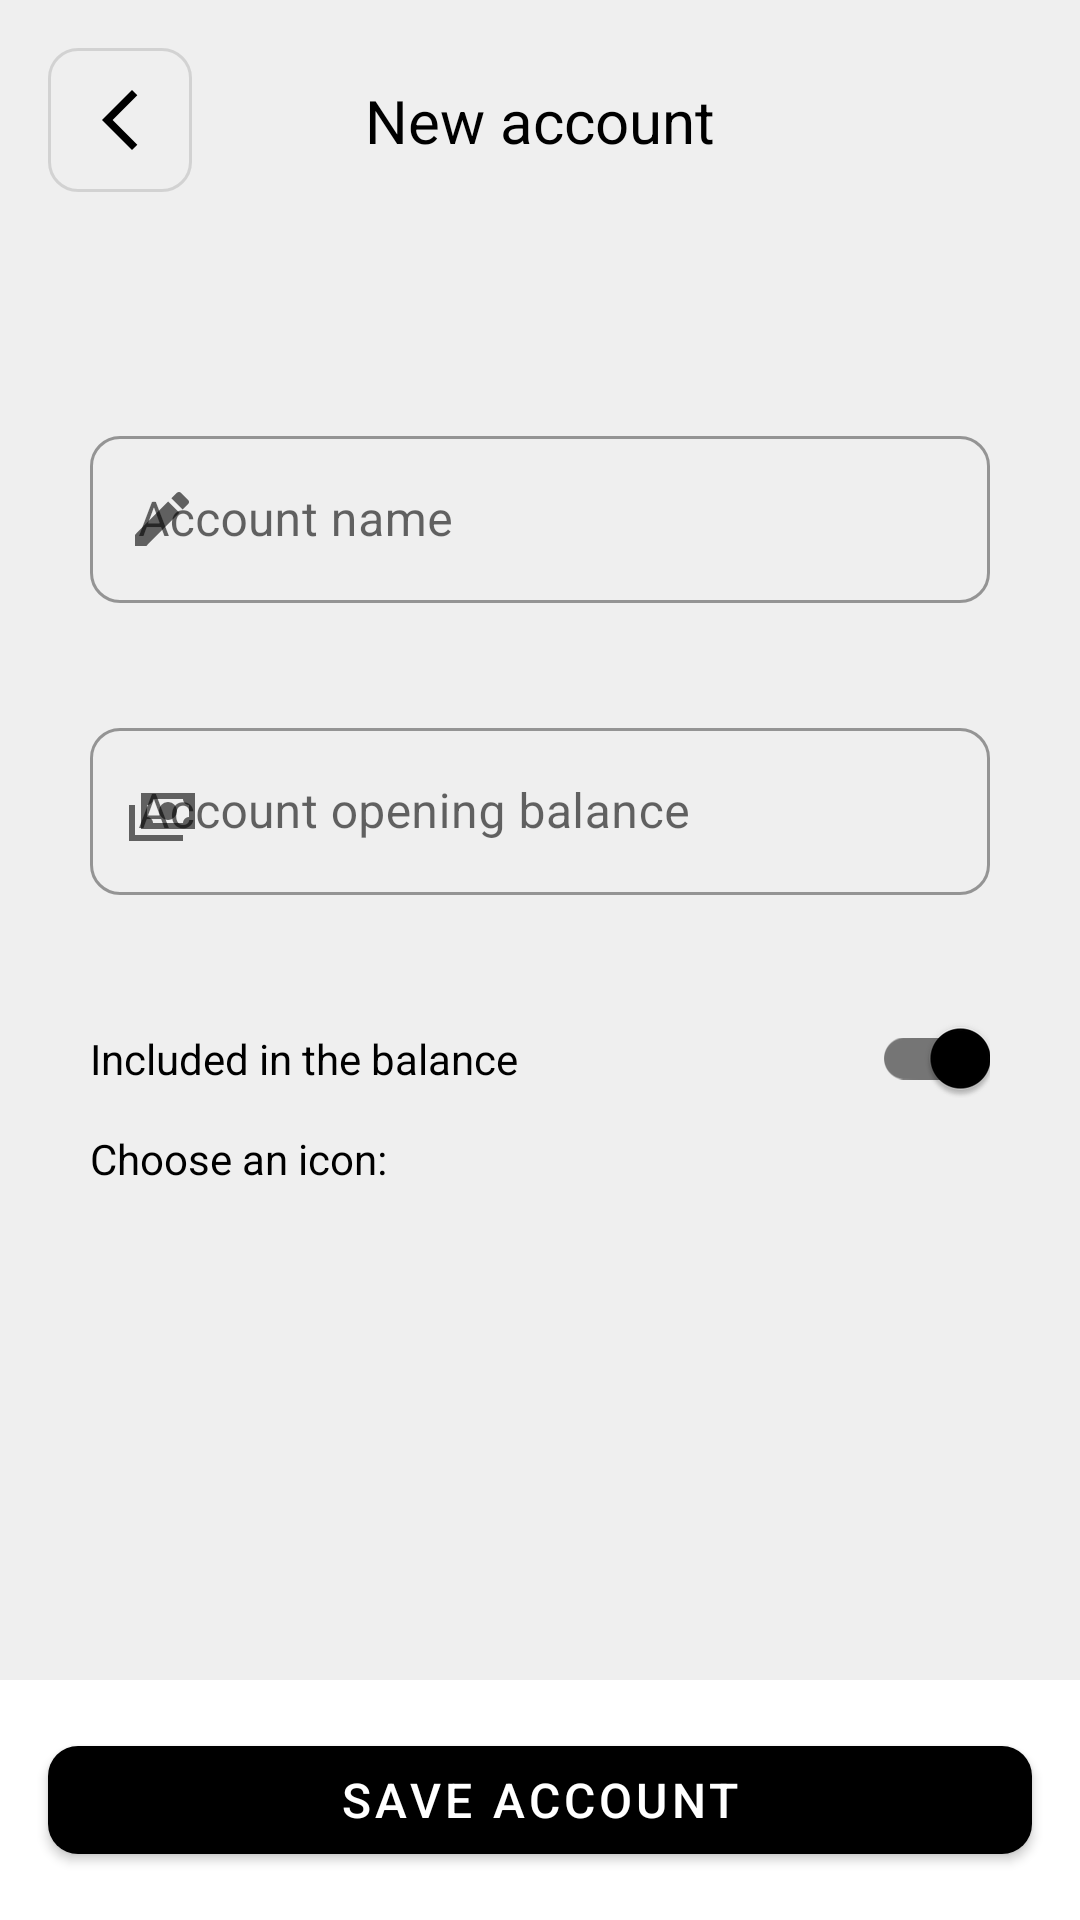

Icon bounding boxes for this 1080*1920 phone screenshot, format (x1, y1, x2, y2):
arrow back: (48, 48, 192, 192)
